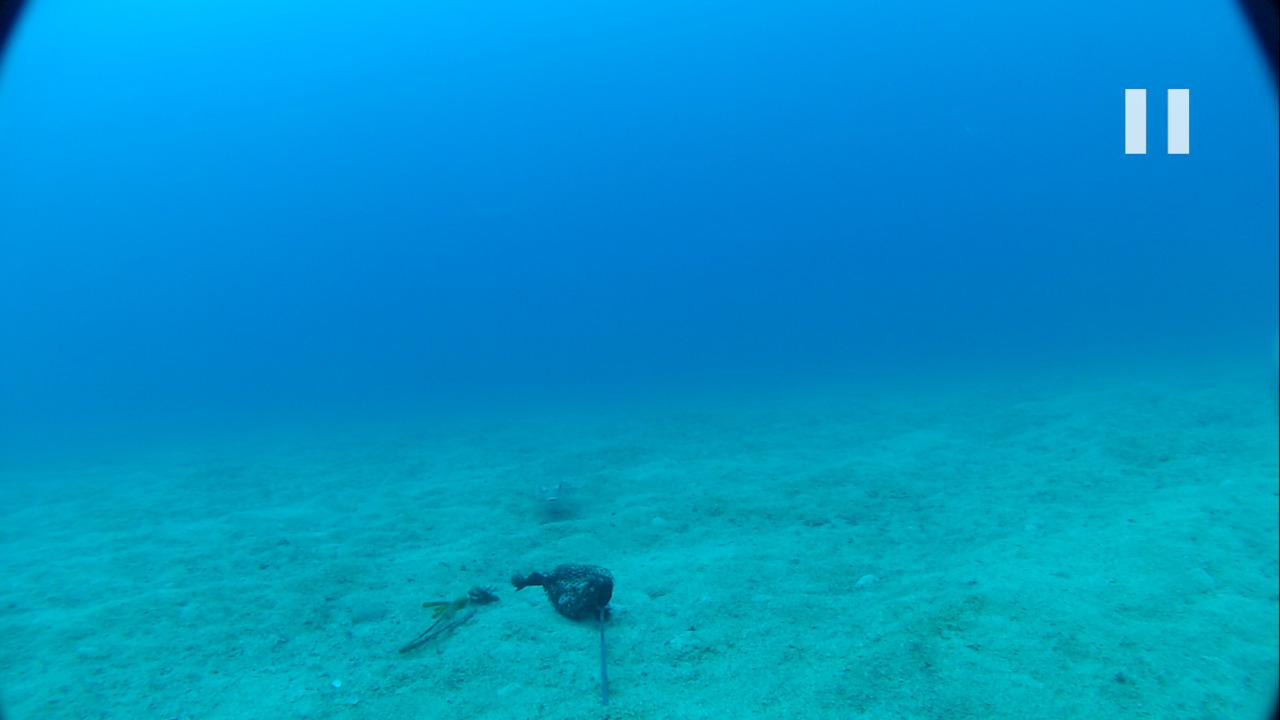dactylopterus: (526, 466, 585, 515)
